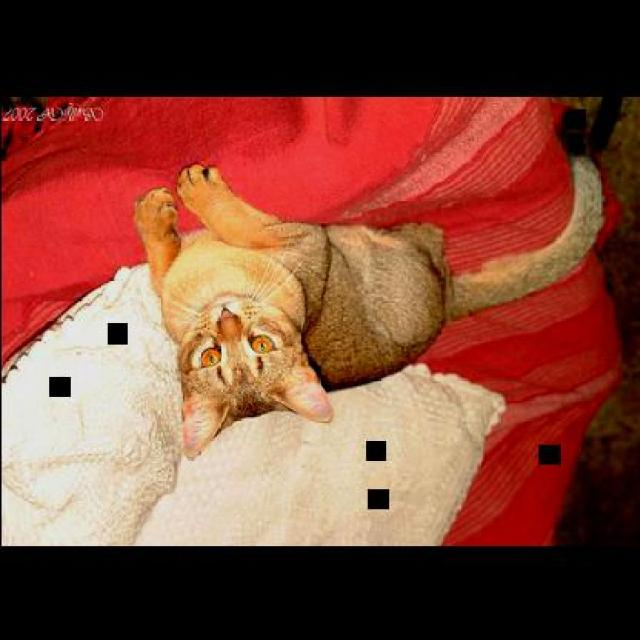unauthorized: (132, 158, 605, 460)
